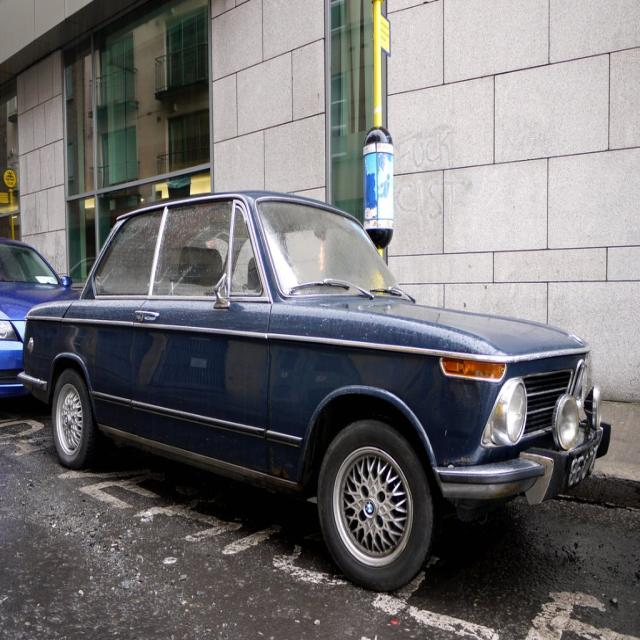car: (14, 188, 611, 594)
